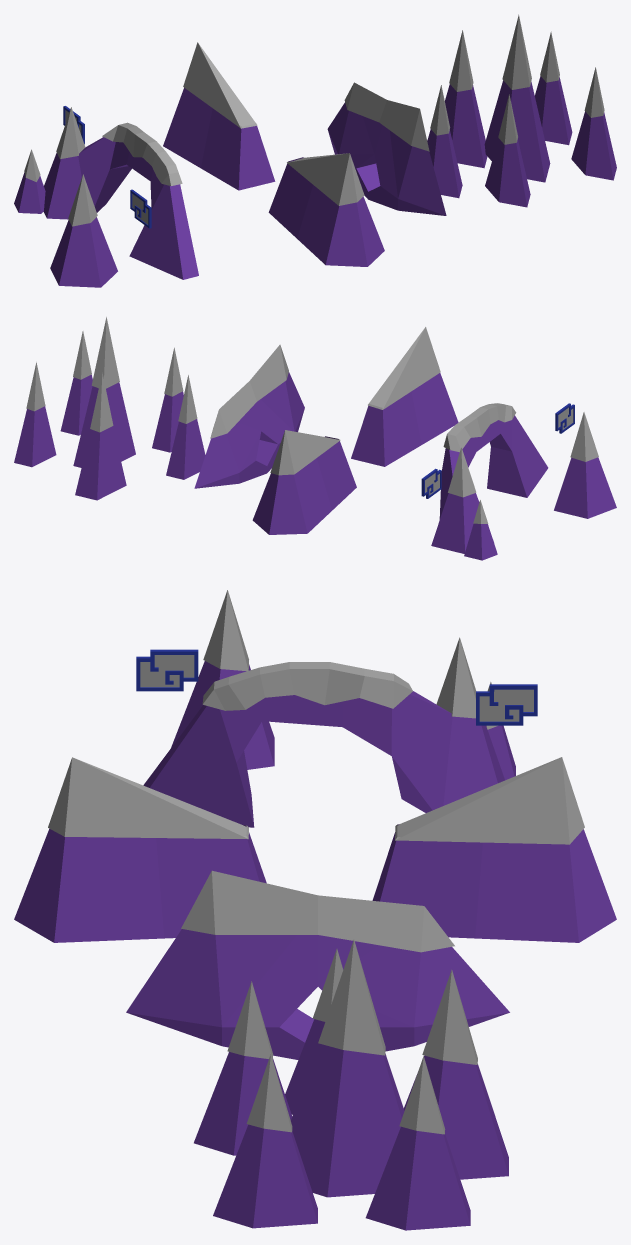
Rendered from level0.obj.
3 views of the same model, one above another, from view 1: azimuth 30°, elevation 25°; view 2: azimuth 150°, elevation 25°; view 3: azimuth 270°, elevation 25° (orthographic). The views are drawn at different scales.
Parts seen in each view (by area): view 1: Cone.006_Cone.005, Cylinder_Cylinder.001, Cone.008, Cone.021, Cone.005_Cone.004, Cone.011_Cone.010, Cylinder.001_Cylinder.002, Cone.015, Cone.022, Cone.004_Cone.007, Cone.018, Cone.010_Cone.009 (+13 smaller); view 2: Cone.006_Cone.005, Cylinder_Cylinder.001, Cone.021, Cone.008, Cone.005_Cone.004, Cone.015, Cone.004_Cone.007, Cylinder.001_Cylinder.002, Cone.011_Cone.010, Cone.022, Cone.019, Cone.014 (+12 smaller); view 3: Cylinder_Cylinder.001, Cone.006_Cone.005, Cone.021, Cone.008, Cone.011_Cone.010, Cylinder.001_Cylinder.002, Cone.022, Cone.004_Cone.007, Cone.019, Cone.018, Cone.002_Cone.000, Cone.015 (+16 smaller).
Boxes of the visible parts, <box> form: Cone.006_Cone.005: <box>44,137,198,279</box>; Cylinder_Cylinder.001: <box>327,102,446,215</box>; Cone.008: <box>268,157,384,266</box>; Cone.021: <box>163,88,275,190</box>; Cone.005_Cone.004: <box>50,217,117,287</box>; Cone.011_Cone.010: <box>484,80,550,182</box>; Cylinder.001_Cylinder.002: <box>344,82,429,151</box>; Cone.015: <box>445,84,487,168</box>; Cone.022: <box>183,42,257,128</box>; Cone.004_Cone.007: <box>287,153,364,205</box>; Cone.018: <box>571,111,616,180</box>; Cone.010_Cone.009: <box>485,138,530,207</box>; Cone.006_Cone.005: <box>431,415,548,553</box>; Cylinder_Cylinder.001: <box>194,372,304,488</box>; Cone.021: <box>252,436,356,534</box>; Cone.008: <box>351,373,458,466</box>; Cone.005_Cone.004: <box>554,457,616,518</box>; Cone.015: <box>75,426,126,500</box>; Cone.004_Cone.007: <box>368,327,440,409</box>; Cylinder.001_Cylinder.002: <box>210,344,288,438</box>; Cone.011_Cone.010: <box>73,382,135,467</box>; Cone.022: <box>270,430,340,475</box>; Cone.019: <box>14,406,56,467</box>; Cone.014: <box>166,419,205,479</box>; Cylinder_Cylinder.001: <box>126,929,509,1059</box>; Cone.006_Cone.005: <box>143,691,504,827</box>; Cone.021: <box>372,824,616,942</box>; Cone.008: <box>14,825,266,942</box>; Cone.011_Cone.010: <box>291,1044,404,1197</box>; Cylinder.001_Cylinder.002: <box>181,870,454,952</box>; Cone.022: <box>395,757,584,844</box>; Cone.004_Cone.007: <box>48,757,248,839</box>; Cone.019: <box>365,1126,470,1230</box>; Cone.018: <box>213,1124,317,1228</box>; Cone.002_Cone.000: <box>202,662,412,710</box>; Cone.015: <box>404,1055,508,1179</box>.
Bounding box in the file's own units: 34.42 × 8.81 × 19.4.
